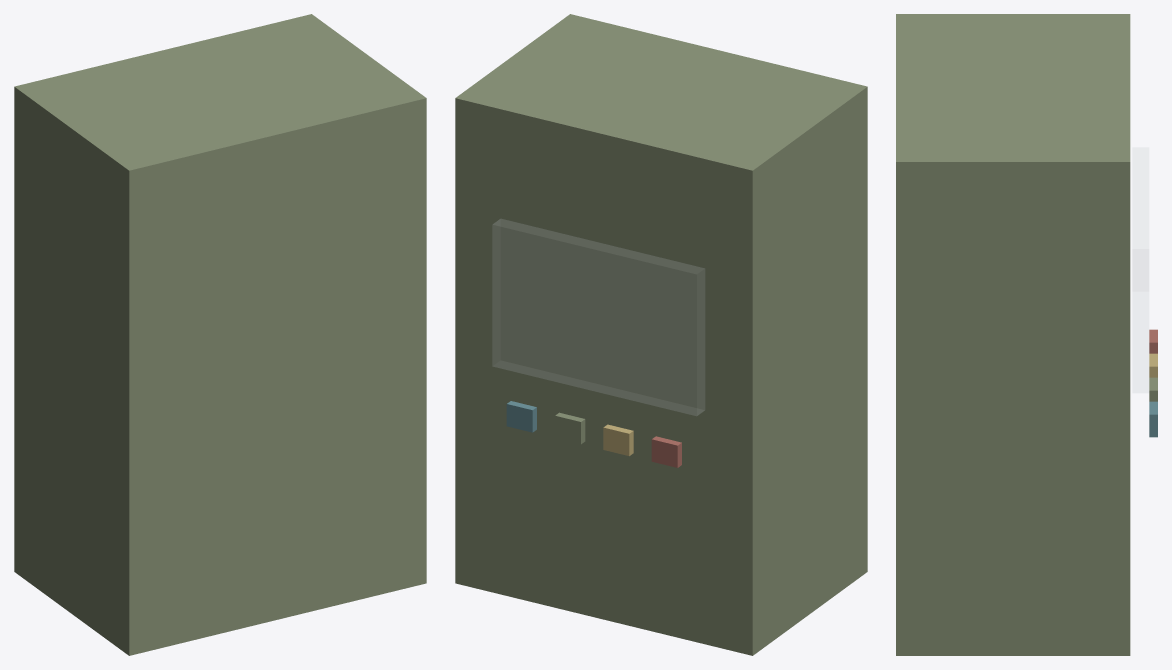
The model's file is iz2_mission_sample_carrier.glb.
3 views of the same model, side by side, from view 1: azimuth 30°, elevation 25°; view 2: azimuth 150°, elevation 25°; view 3: azimuth 270°, elevation 25° (orthographic).
Parts seen in each view (by area): view 1: body; view 2: body, screen; view 3: body, screen.
Part boxes in pixels (x1,y1,x2,y2): body: [14, 14, 426, 655]; body: [455, 14, 867, 655]; screen: [492, 219, 704, 415]; body: [896, 14, 1157, 655]; screen: [1132, 147, 1148, 392].
Bounding box in the file's own units: 0.8278 × 1.29 × 0.6196.
